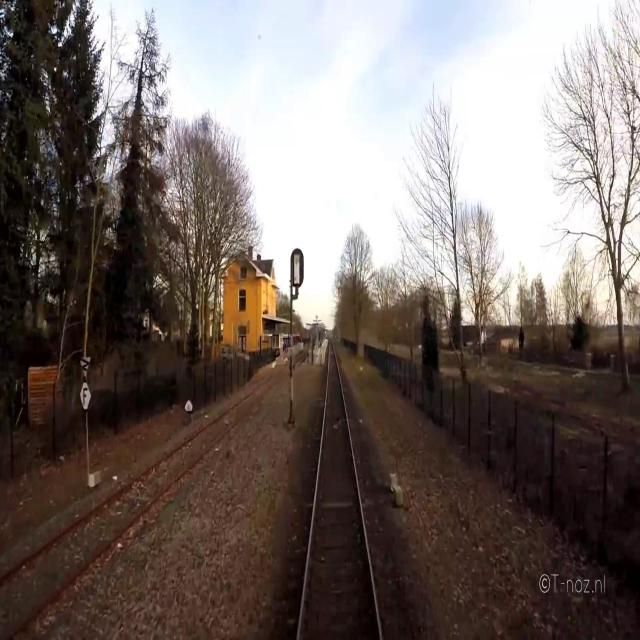rail-track: (1, 364, 289, 632), (301, 345, 378, 639)
